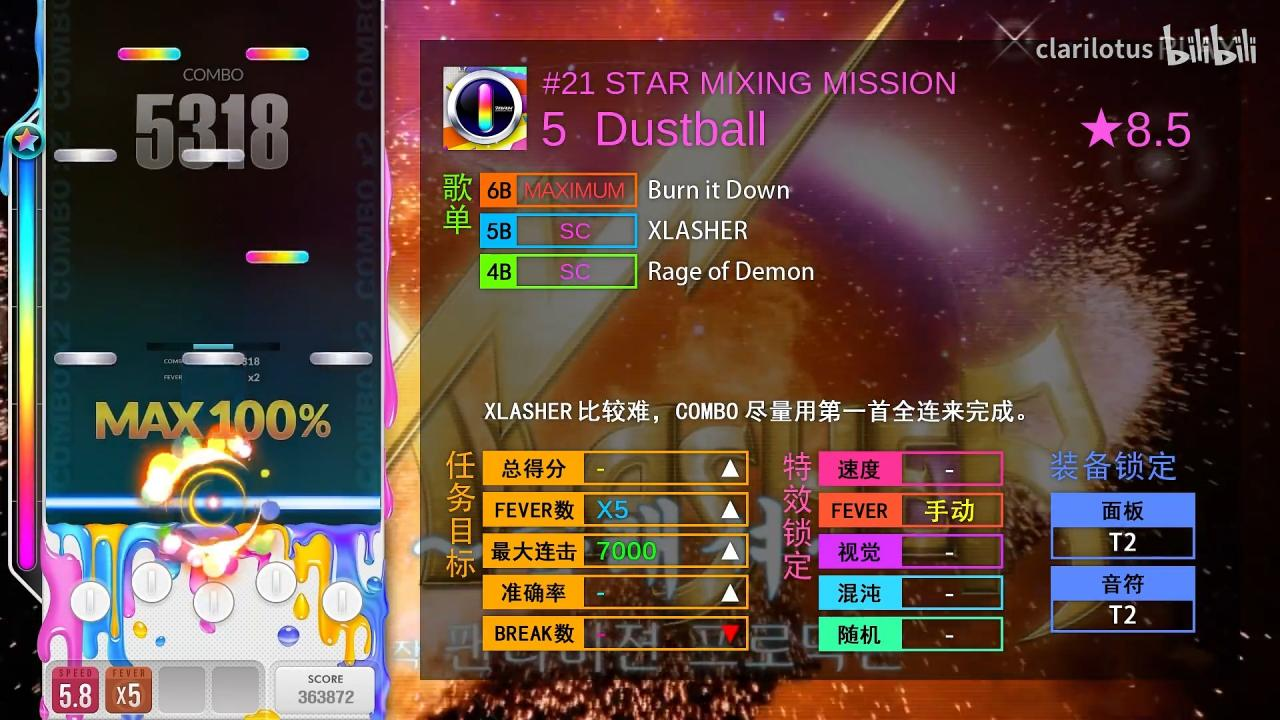note: (54, 352, 116, 366), (182, 352, 244, 366), (54, 149, 117, 162), (247, 251, 310, 264), (310, 353, 373, 366), (246, 48, 309, 60), (182, 150, 245, 162), (119, 48, 181, 60)
